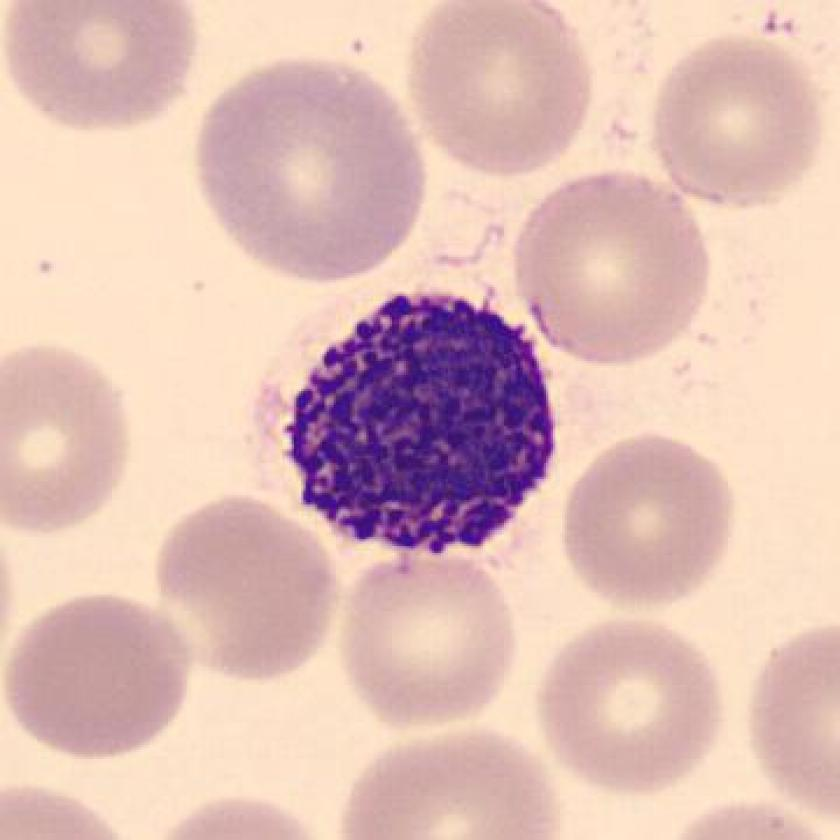basophil: (283, 267, 573, 573)
